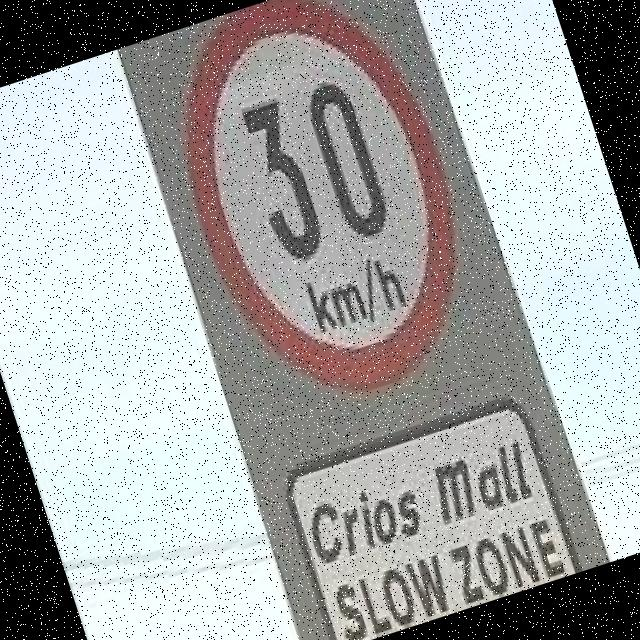speed_limit_30: (137, 0, 507, 429)
